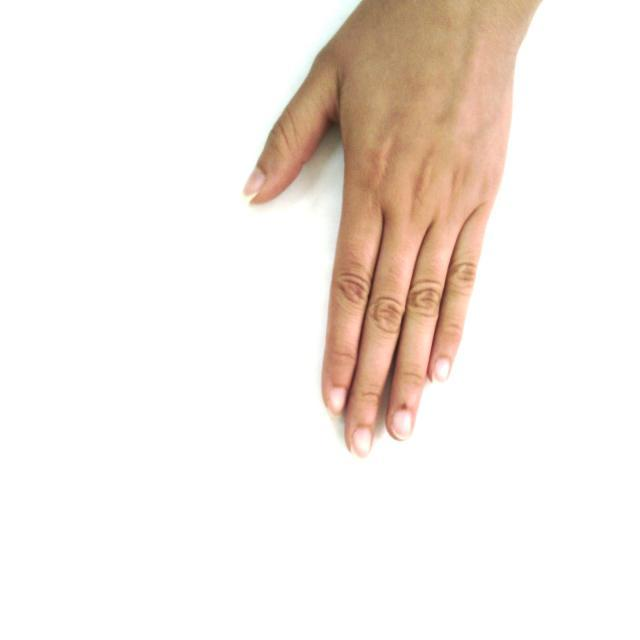Fingernail: (391, 409, 412, 439), (244, 169, 264, 198), (353, 427, 371, 458), (329, 388, 345, 412), (435, 359, 449, 382)
